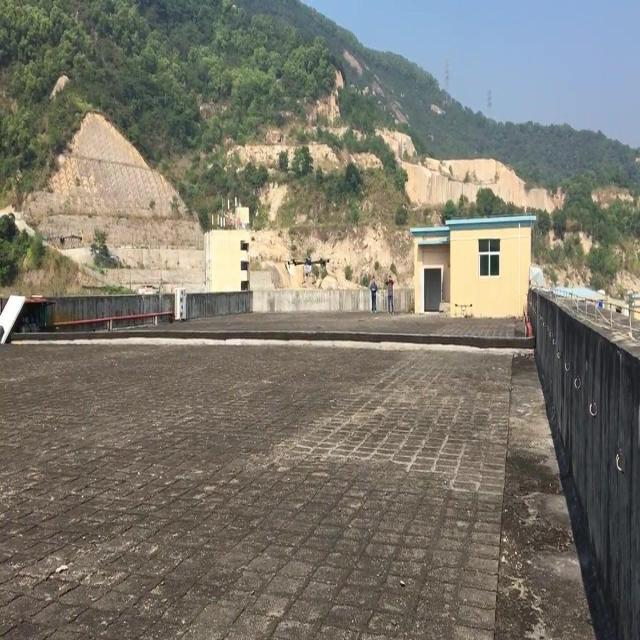drone: (287, 255, 332, 287)
